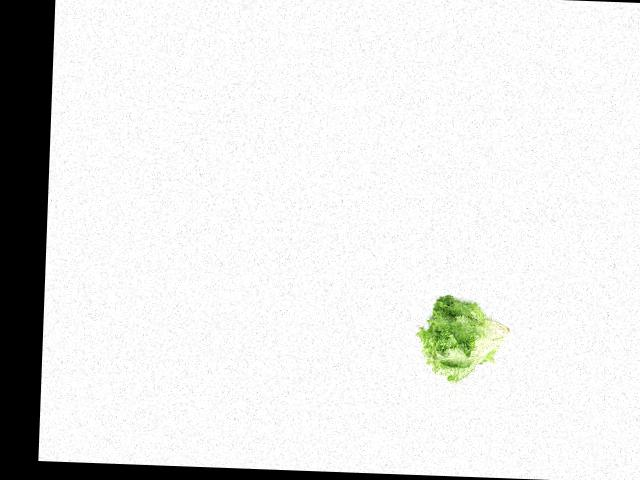lettuce: (417, 292, 512, 387)
